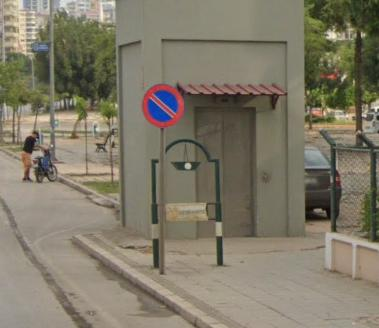nopark: (143, 83, 185, 128)
